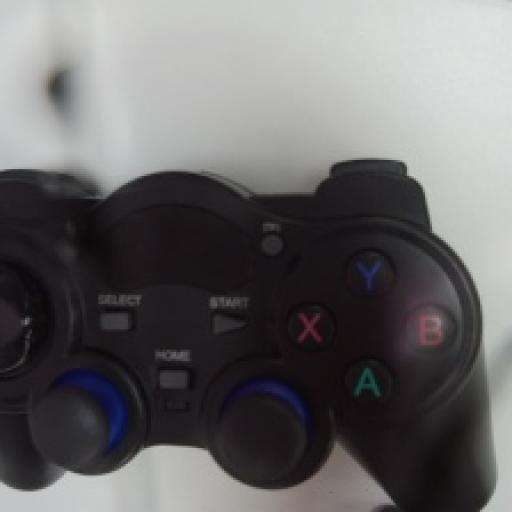game pad: (0, 162, 494, 510)
